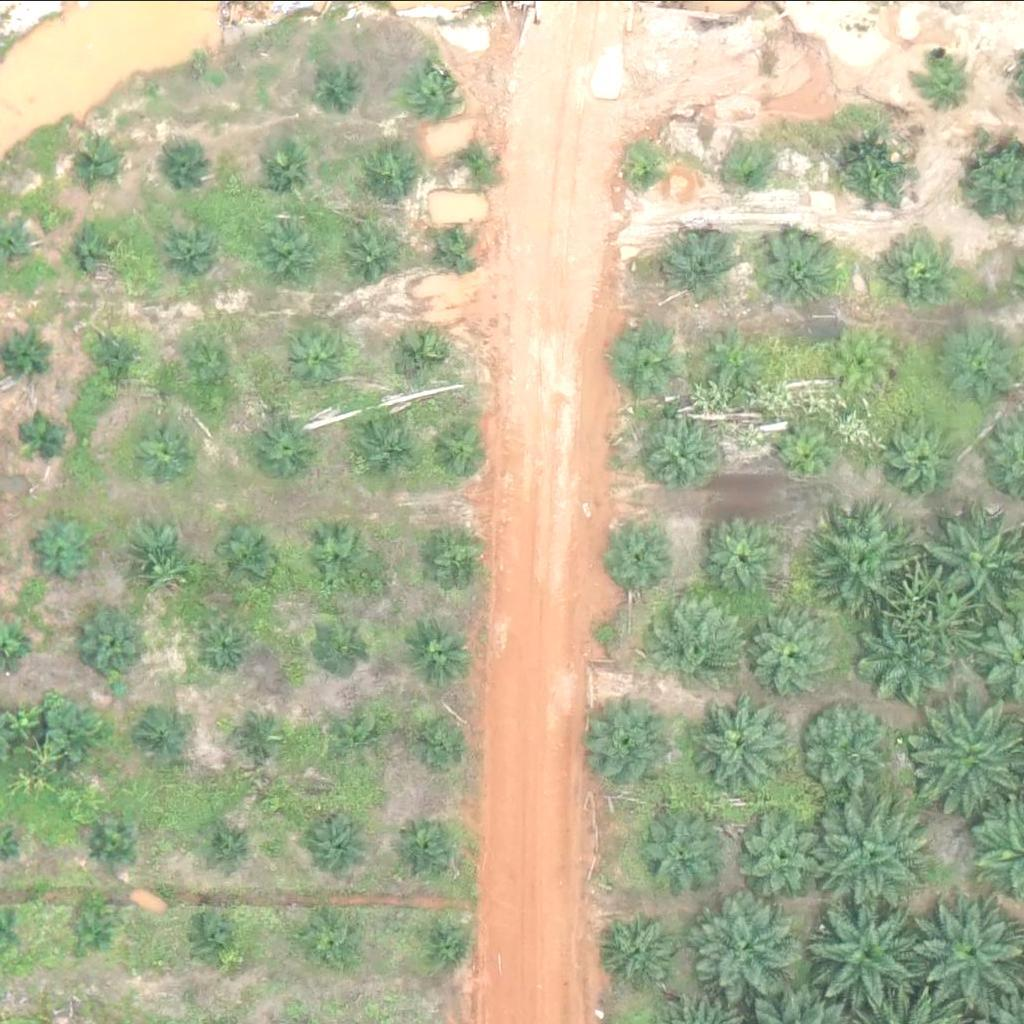Kelapa_Sawit: (802, 785, 928, 910), (806, 891, 932, 1016), (690, 888, 803, 1001), (814, 513, 914, 613), (650, 591, 750, 691), (683, 696, 783, 796), (800, 702, 888, 790), (584, 694, 672, 782), (740, 813, 828, 901), (750, 606, 839, 693), (857, 618, 945, 705), (639, 407, 727, 494), (696, 512, 784, 599), (640, 815, 728, 902), (661, 229, 737, 304), (606, 519, 682, 594), (842, 138, 918, 213), (758, 229, 834, 304), (885, 421, 960, 496), (605, 913, 680, 988), (876, 237, 951, 312), (188, 337, 251, 400), (164, 222, 227, 285), (81, 610, 144, 673), (408, 623, 471, 686), (261, 224, 324, 287), (391, 814, 454, 877), (298, 903, 361, 966), (409, 913, 472, 976), (306, 527, 369, 590), (413, 529, 476, 592), (313, 613, 376, 676), (430, 417, 493, 480), (611, 328, 674, 391), (357, 137, 420, 200), (342, 223, 405, 286), (833, 332, 896, 395), (188, 907, 250, 970), (220, 527, 283, 589), (135, 416, 198, 478), (33, 517, 96, 579), (352, 414, 415, 476), (326, 702, 389, 764), (256, 417, 319, 479), (707, 323, 770, 385), (294, 328, 357, 390), (392, 323, 455, 385), (252, 138, 315, 200), (914, 44, 977, 106), (46, 699, 109, 761), (133, 521, 196, 583), (408, 707, 470, 769), (773, 424, 835, 486), (313, 811, 375, 873), (427, 223, 478, 273), (448, 137, 499, 187), (214, 816, 264, 866), (146, 714, 196, 764), (239, 706, 289, 756), (202, 623, 252, 673), (86, 820, 136, 870), (163, 134, 213, 184), (19, 409, 69, 459), (66, 902, 116, 952), (74, 224, 124, 274), (73, 138, 123, 188), (414, 66, 464, 116), (309, 56, 359, 106), (622, 144, 672, 194), (729, 148, 779, 198), (98, 330, 148, 380)
